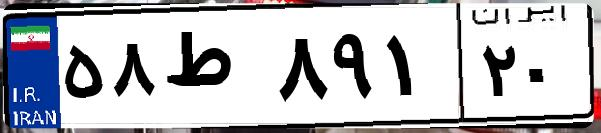0: (525, 38, 570, 115)
1: (385, 28, 445, 110)
2: (475, 38, 525, 113)
5: (57, 26, 110, 100)
8: (270, 28, 330, 110), (110, 28, 158, 98)
9: (330, 28, 385, 110)
ط: (158, 20, 270, 120)
